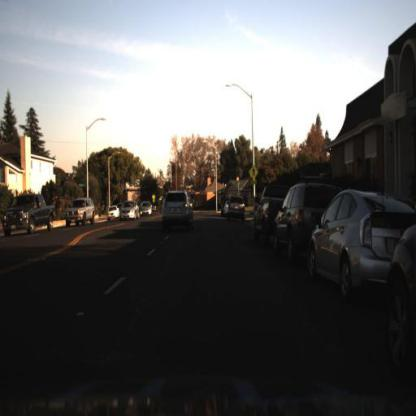car: (307, 188, 416, 297), (274, 181, 347, 262), (252, 182, 295, 246), (3, 195, 57, 239), (162, 192, 194, 232), (64, 197, 97, 227), (120, 200, 141, 223), (227, 198, 247, 222), (141, 201, 155, 215)
